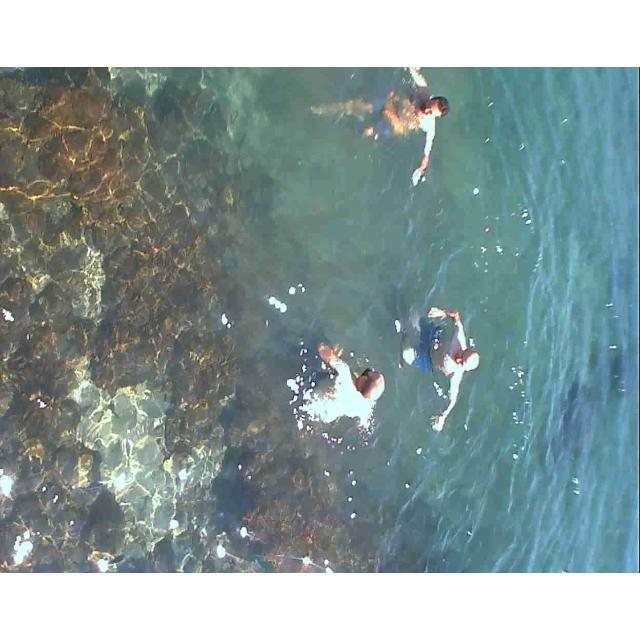human: (339, 67, 445, 193), (411, 293, 477, 438), (307, 340, 382, 439)
